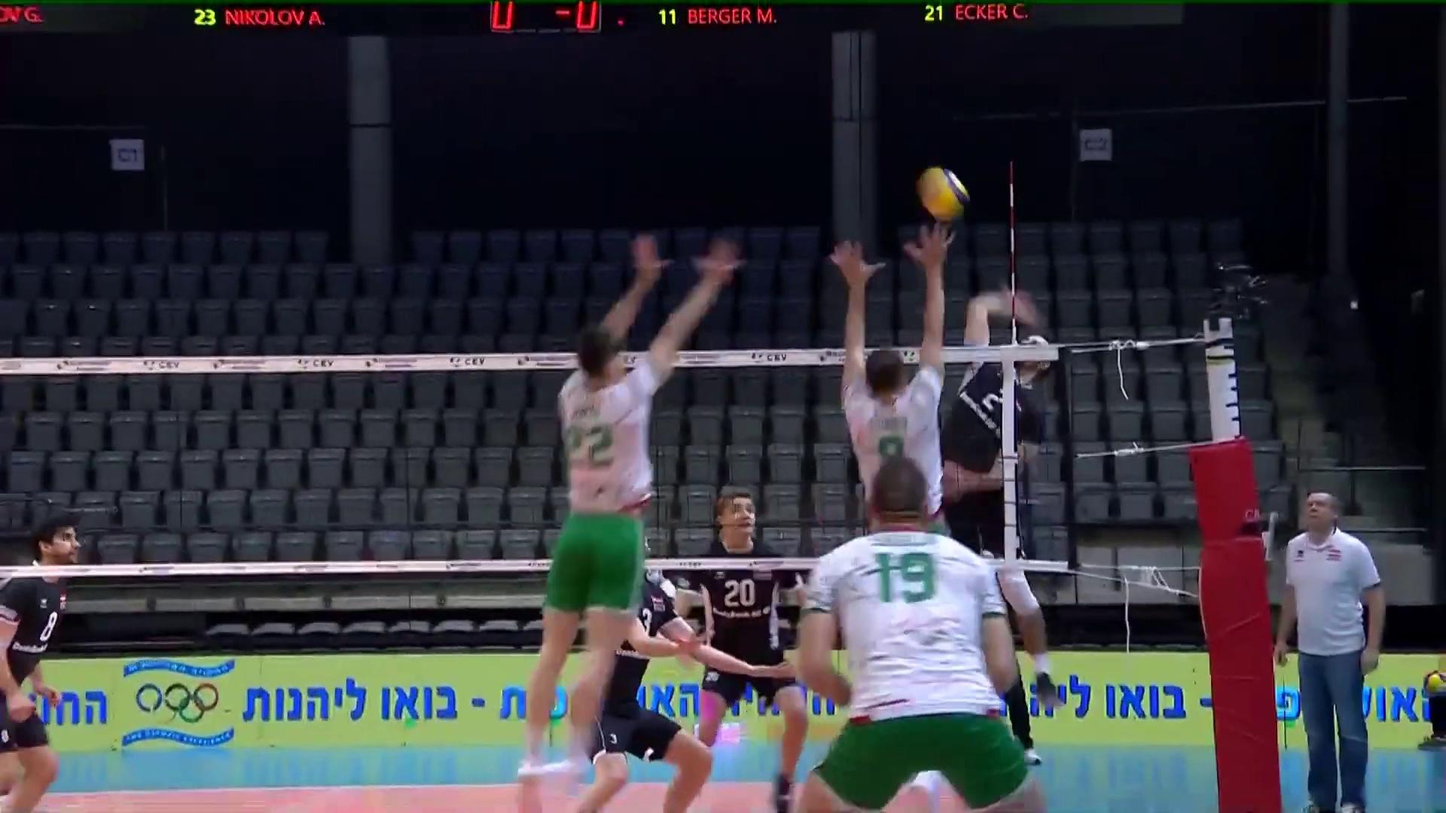ball: (909, 162, 980, 224)
